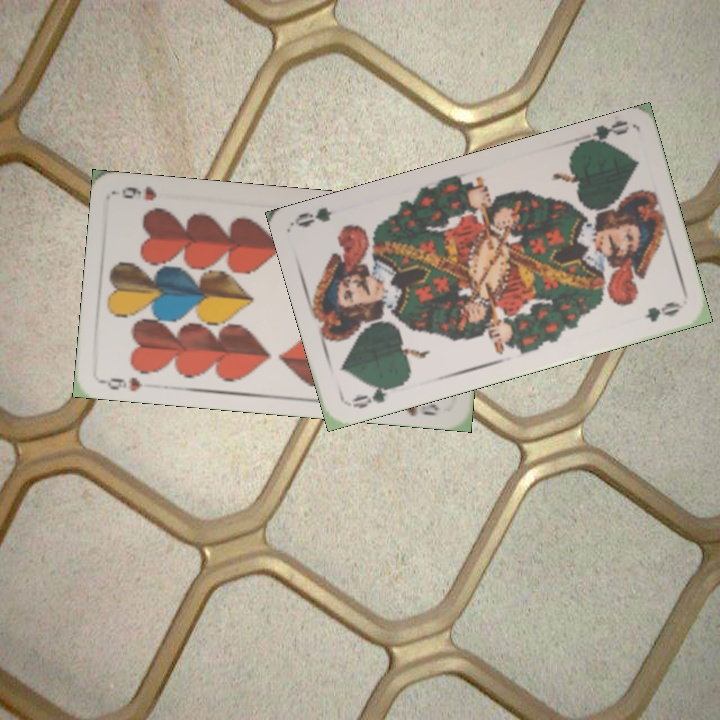GO: (571, 117, 631, 149), (348, 381, 402, 411)
H9: (98, 373, 145, 394)
